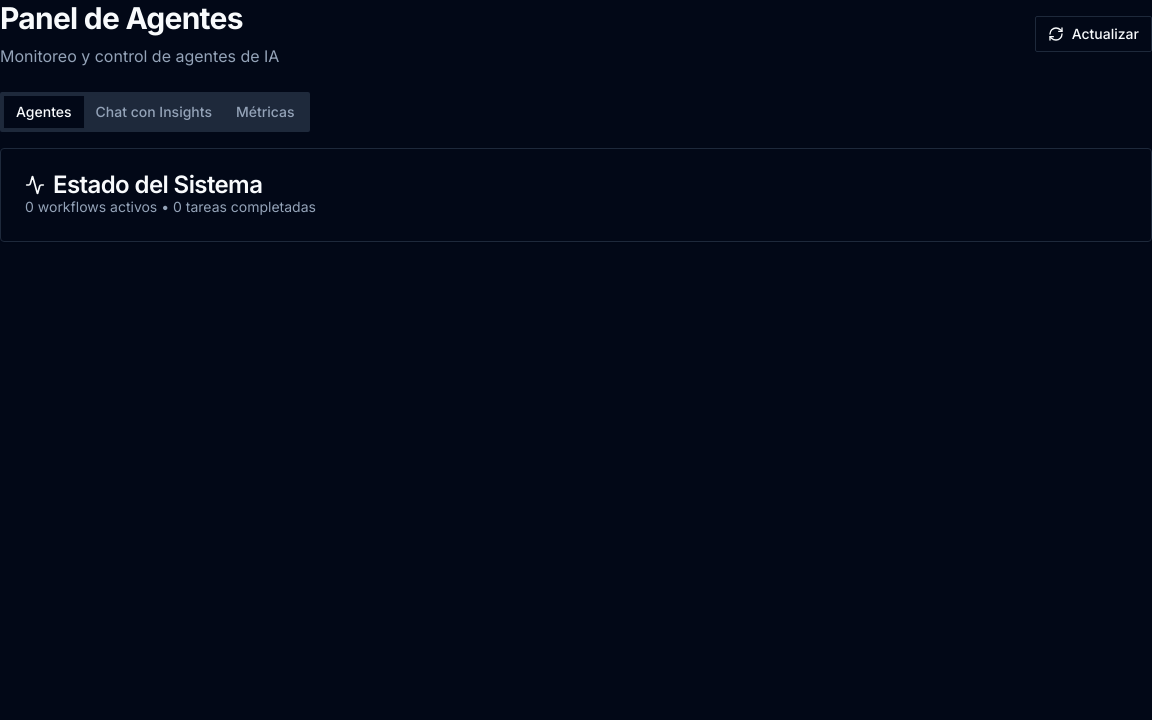
Test: la tarjeta del proveedor en el chat › una burbuja sin modelo no declara un proveedor que no la escribió
This screenshot has width=1152, height=720.
Press the mouse on the tab "Chat con Insights" at (154, 112), box 84,96 -> 224,128
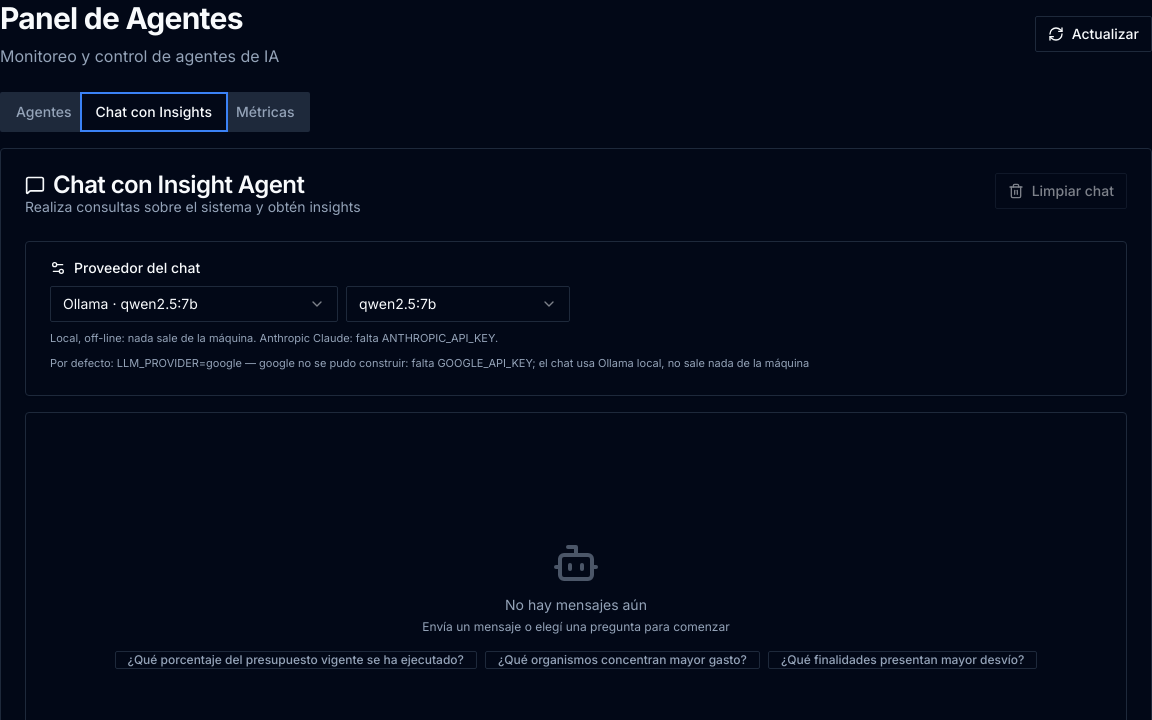
Press Enter in the tab "Chat con Insights", box 84,96 -> 224,128
Click the tab "Chat con Insights".
click(154, 112)  # box 84,96 -> 224,128
(page scrolled)
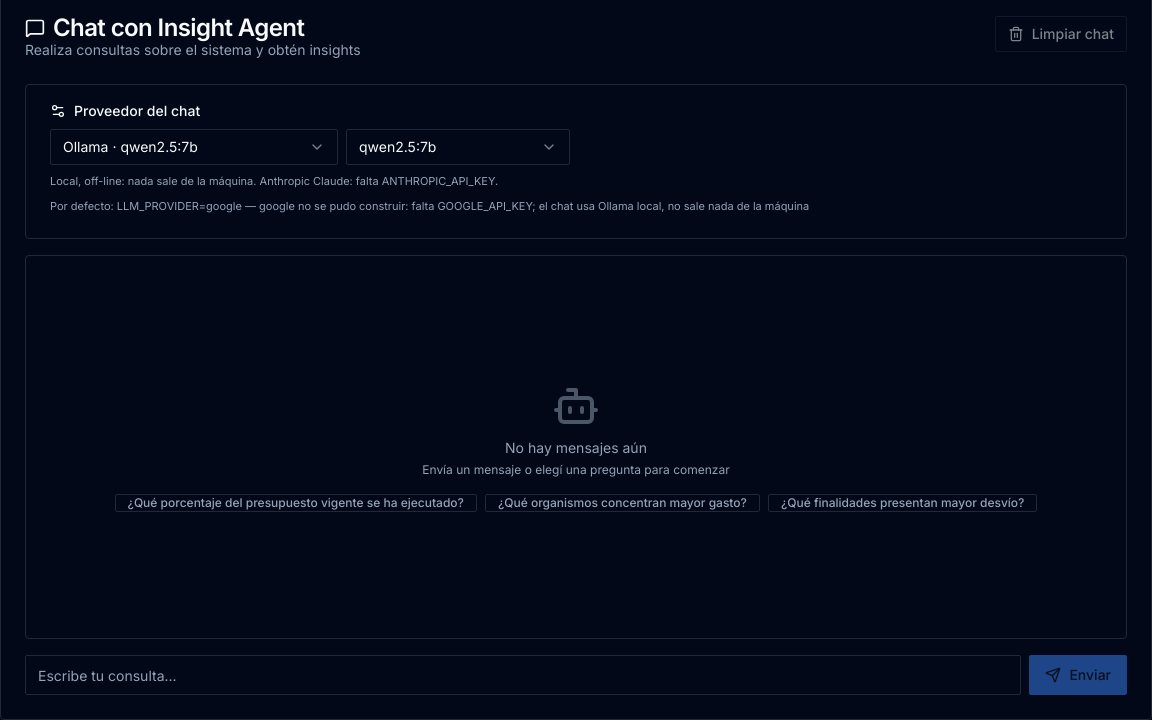
Type "¿Qué organismos concentran mayor gasto?" into the field with placeholder "Escribe tu consulta...".
click(523, 675); type("¿Qué organismos concentran mayor gasto?")  # box 25,655 -> 1021,695
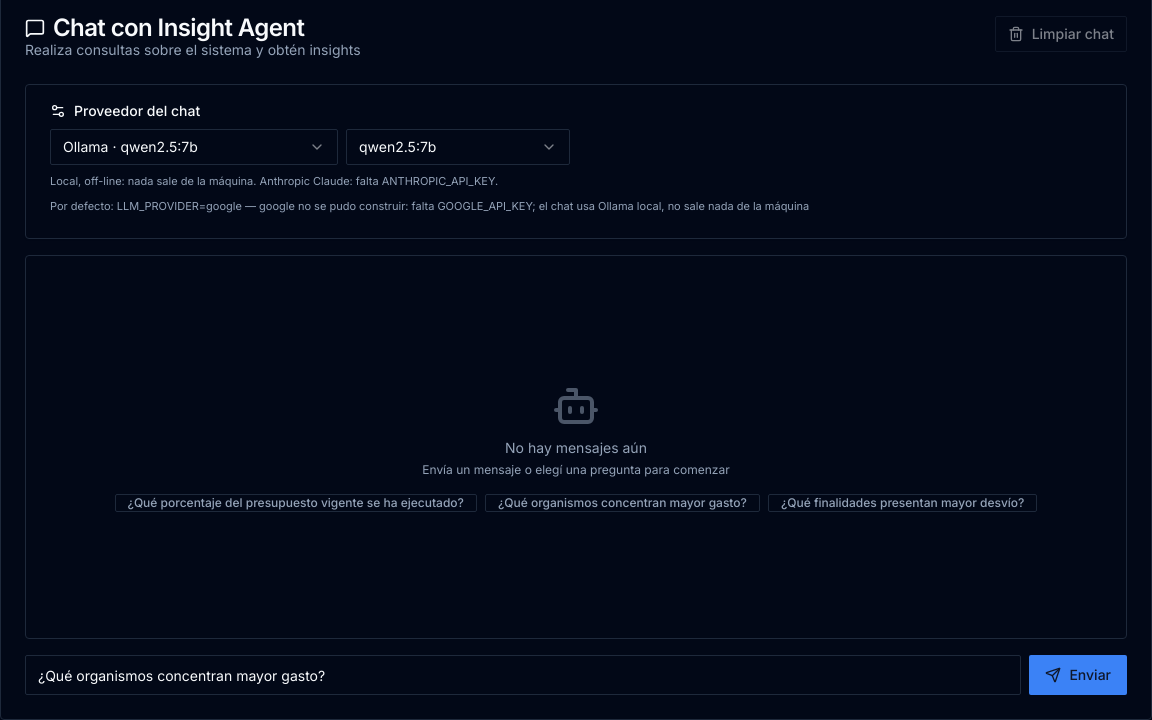
Click the button "Enviar".
click(1078, 675)  # box 1029,655 -> 1127,695
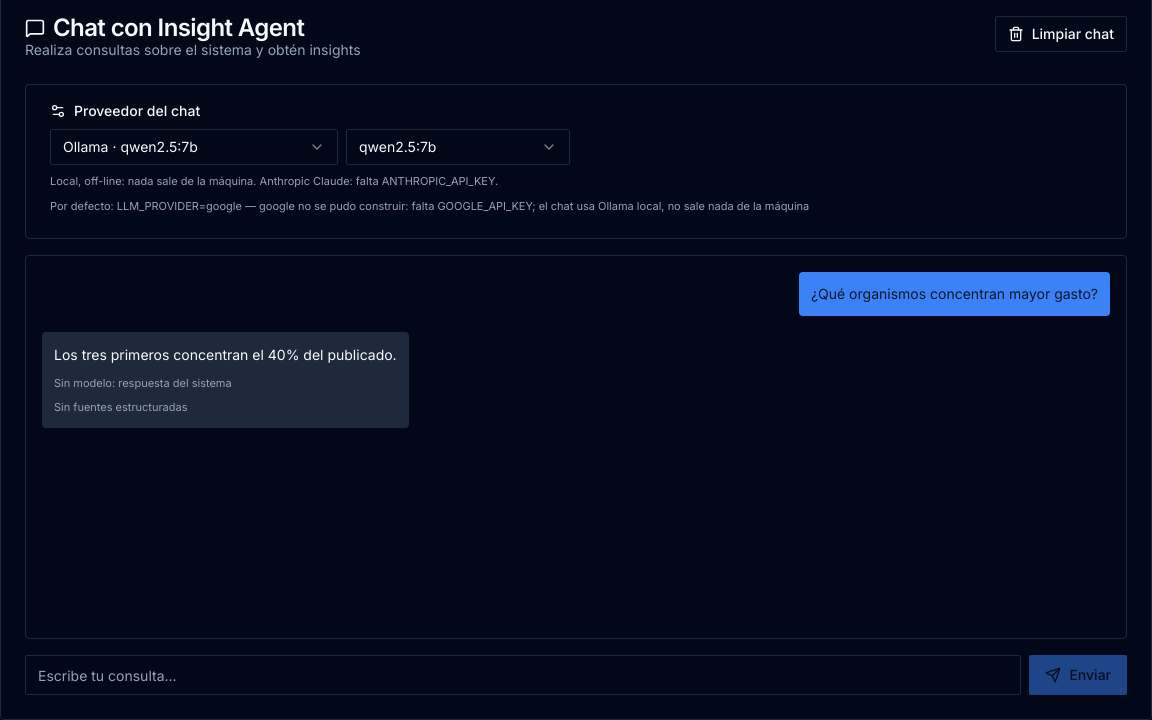
Check: the text "Los tres primeros concentran el 40% del publicado." is shown, box 54,344 -> 397,367
Check: the text with test id "chat-llm-credit" reads "Sin modelo: respuesta del sistema", box 54,376 -> 232,390
